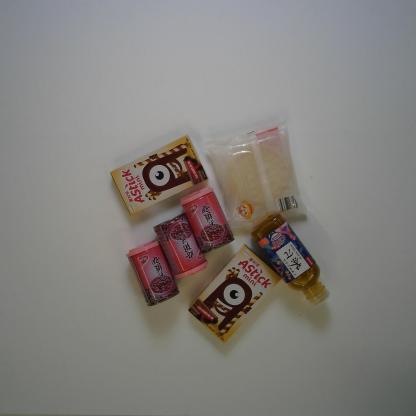Canned Food: (152, 206, 210, 280), (180, 179, 237, 254), (123, 237, 181, 310)
Dessert: (202, 119, 308, 228), (185, 243, 282, 345), (107, 133, 204, 218)
Drink: (254, 215, 332, 310)
